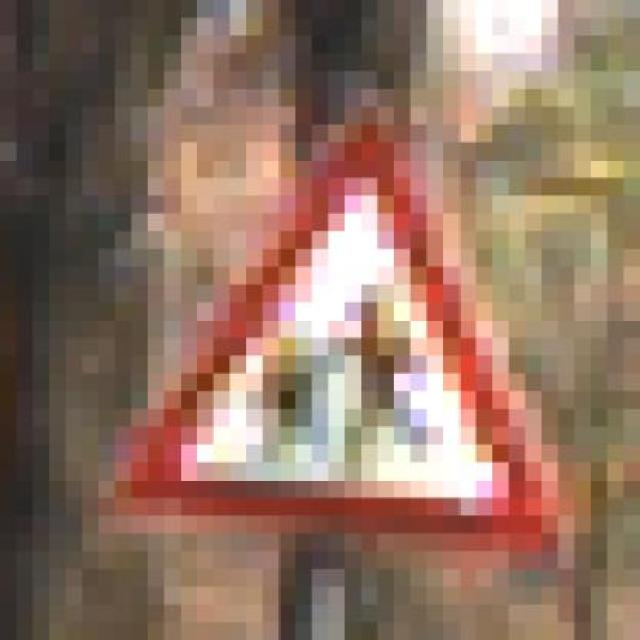Beware of children: (99, 89, 558, 569)
